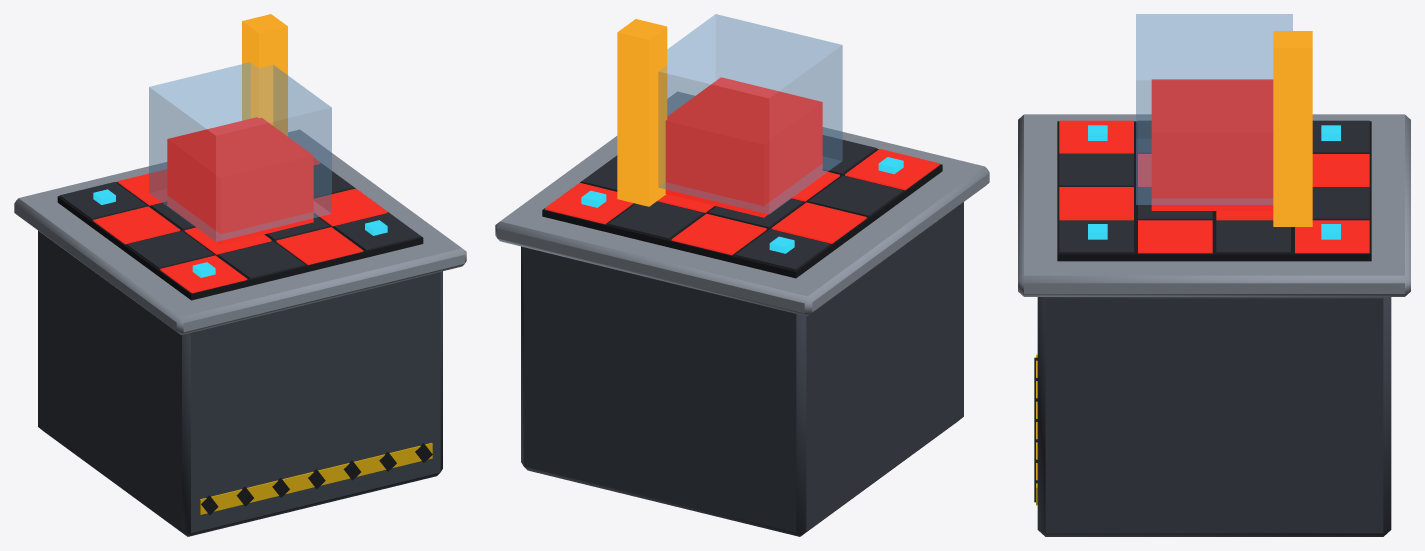
Rendered from holo_tactical_plinth.glb.
The picture shows the model from 3 angles, left to right: view 1: azimuth 30°, elevation 25°; view 2: azimuth 150°, elevation 25°; view 3: azimuth 270°, elevation 25°; orthographic projection. The views are drawn at different scales.
Parts seen in each view (by area): view 1: holo_tactical_plinth; view 2: holo_tactical_plinth; view 3: holo_tactical_plinth.
Boxes of the visible parts, left/top/right/bottom form: holo_tactical_plinth: left=14, top=14, right=466, bottom=536; holo_tactical_plinth: left=495, top=14, right=989, bottom=536; holo_tactical_plinth: left=1018, top=14, right=1410, bottom=536.
Bounding box in the file's own units: 1 × 1.29 × 1.
